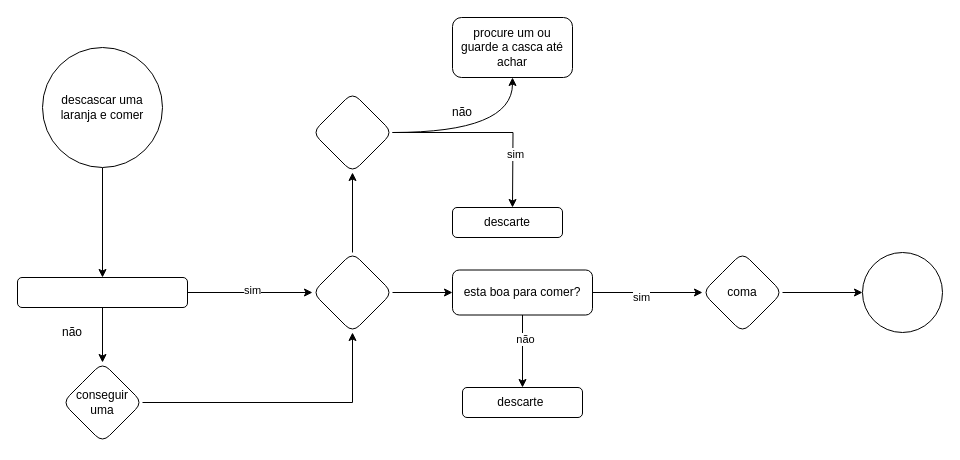
This 960x460 diagram has some shape labels left out. Each missing label, with the centre of its shape:
"descascar" goes at (x=352, y=292).
"fim" goes at (x=902, y=292).
"tem faca?" goes at (x=102, y=292).
"tem lixo?" goes at (x=352, y=132).
